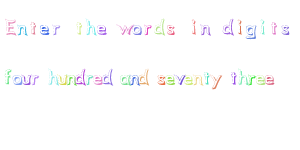E: (2, 13, 16, 42)
a: (118, 71, 130, 86)
d: (219, 14, 235, 41), (137, 67, 153, 87), (101, 66, 116, 87), (74, 67, 86, 88), (154, 18, 166, 36)
e: (38, 19, 51, 39), (96, 23, 109, 38), (266, 71, 277, 88), (93, 71, 102, 88), (255, 73, 265, 88), (166, 74, 176, 87), (184, 73, 193, 87)
f: (2, 66, 13, 88)
g: (245, 21, 258, 42)
h: (83, 16, 96, 39), (238, 66, 249, 87), (48, 69, 59, 87)
i: (187, 15, 198, 37), (235, 16, 243, 42), (259, 18, 268, 36)
n: (16, 23, 30, 40), (199, 22, 213, 39), (130, 71, 140, 90), (192, 71, 203, 88), (67, 71, 77, 88)
o: (132, 20, 143, 38), (11, 71, 22, 87)
r: (51, 22, 64, 41), (143, 19, 154, 39), (31, 70, 42, 89), (85, 71, 94, 88), (248, 71, 257, 87)
s: (280, 22, 293, 38), (166, 22, 177, 38), (155, 72, 166, 87)
t: (226, 67, 238, 88), (28, 17, 39, 39), (72, 17, 83, 38), (269, 17, 279, 38), (203, 68, 211, 86)
u: (57, 70, 68, 87), (21, 73, 31, 86)
v: (174, 72, 186, 87)
w: (114, 19, 132, 38)
y: (211, 73, 223, 94)
